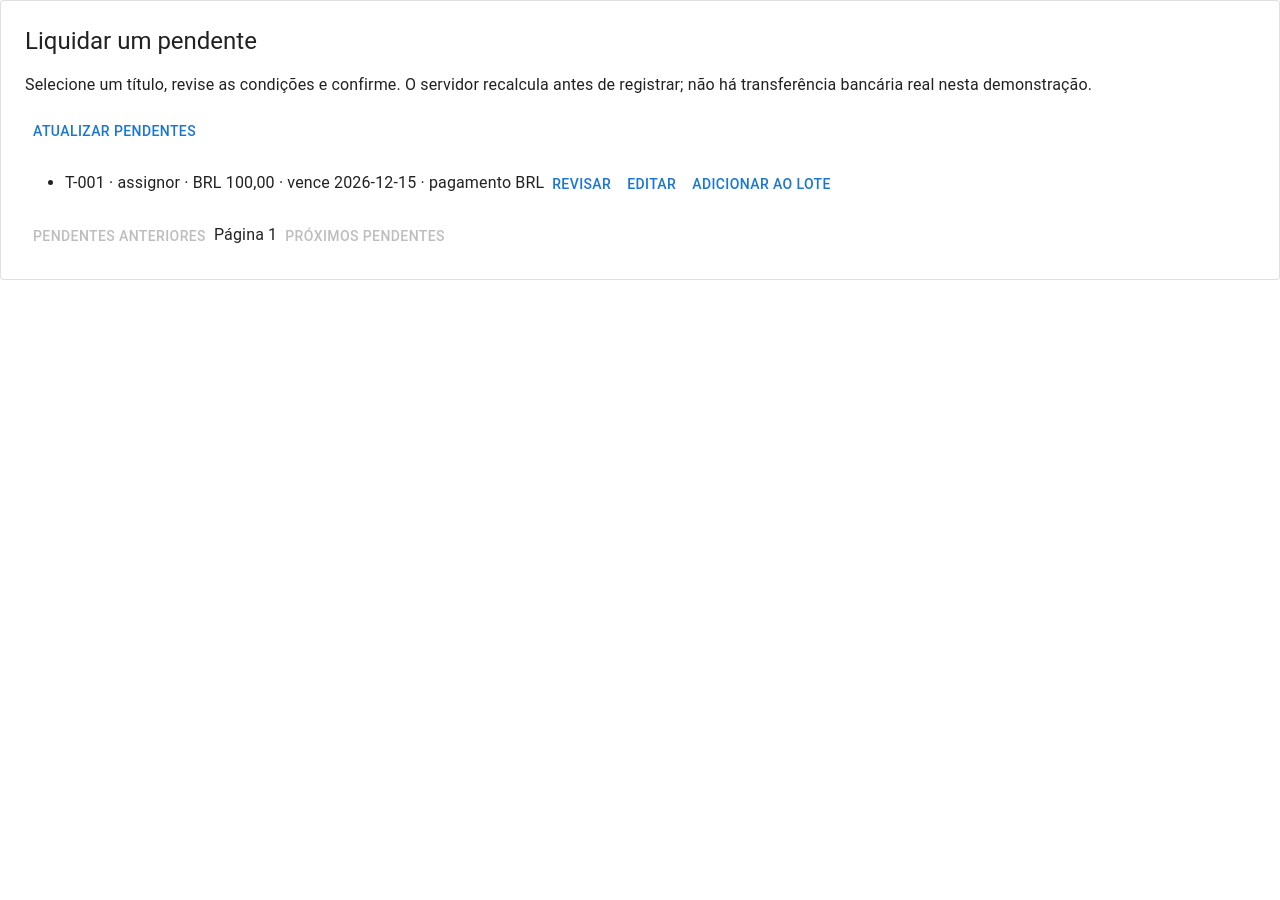
it: changed conditions require a second unchecked confirmation and a new key
Click the button with aria-label "Revisar T-001" at coordinates (582, 184), box top-left (544, 166), bottom-right (619, 202)
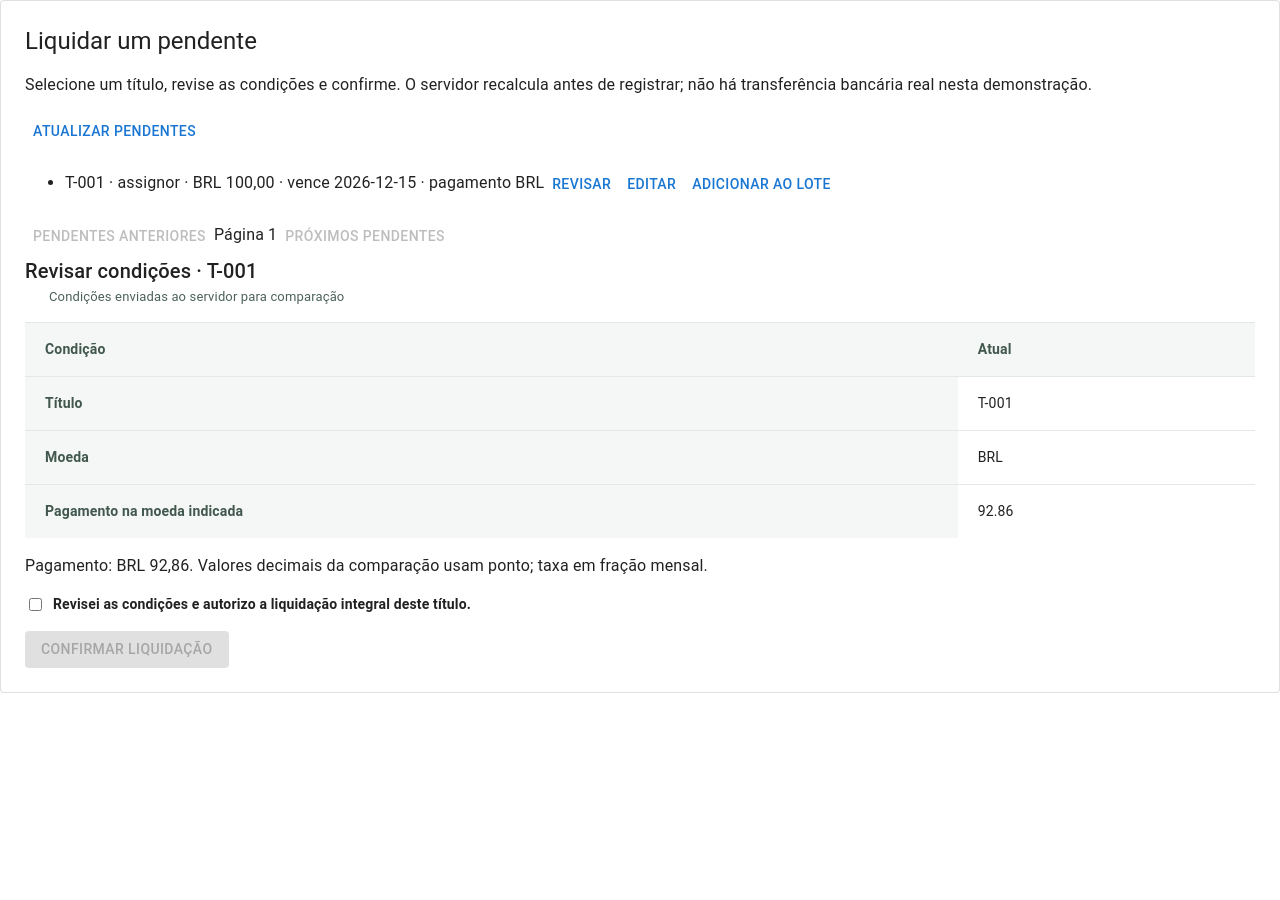
expect the checkbox is shown: met
Click the checkbox at coordinates (36, 604), box top-left (29, 598), bottom-right (42, 611)
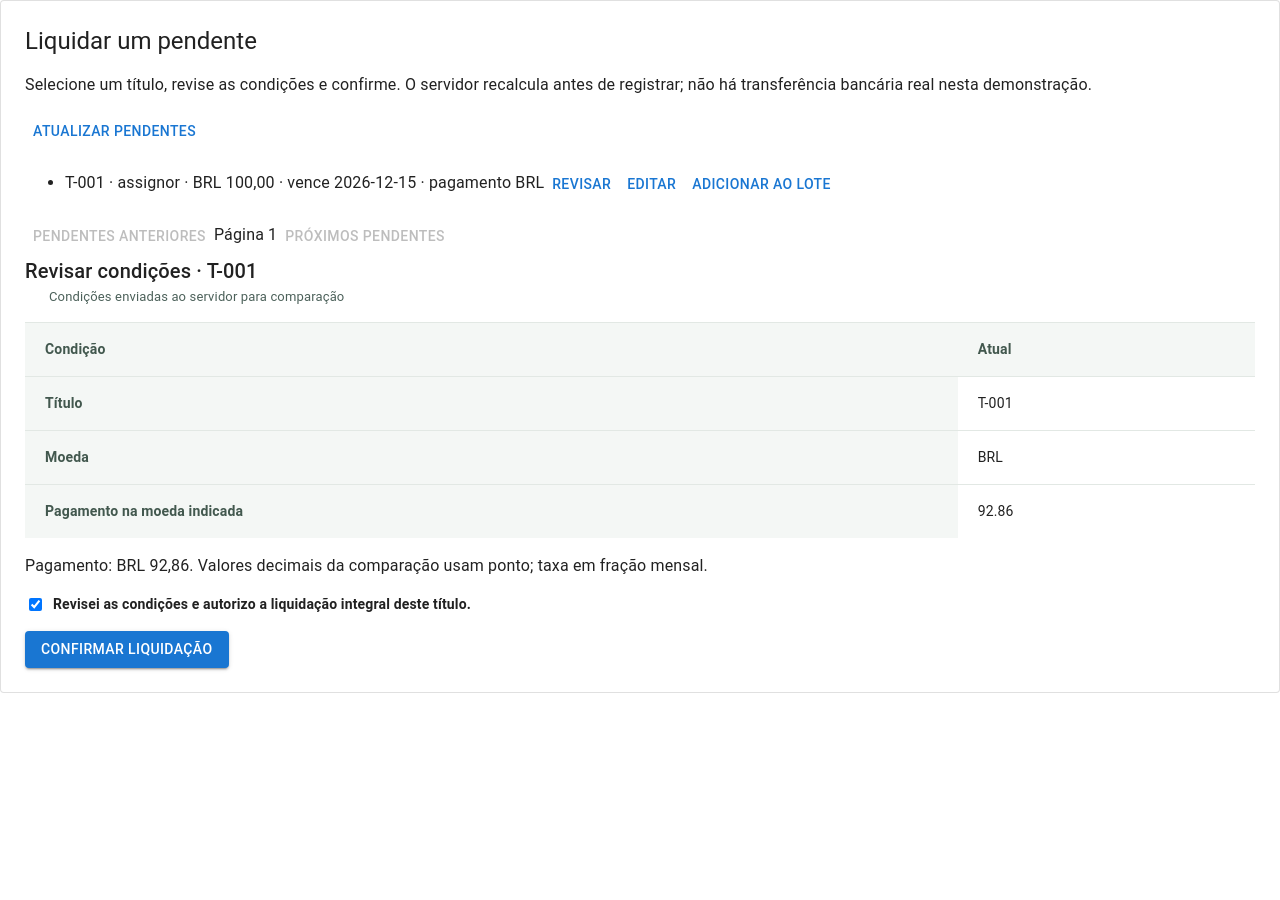
Click the button "Confirmar liquidação" at coordinates (127, 649), box top-left (25, 631), bottom-right (228, 668)
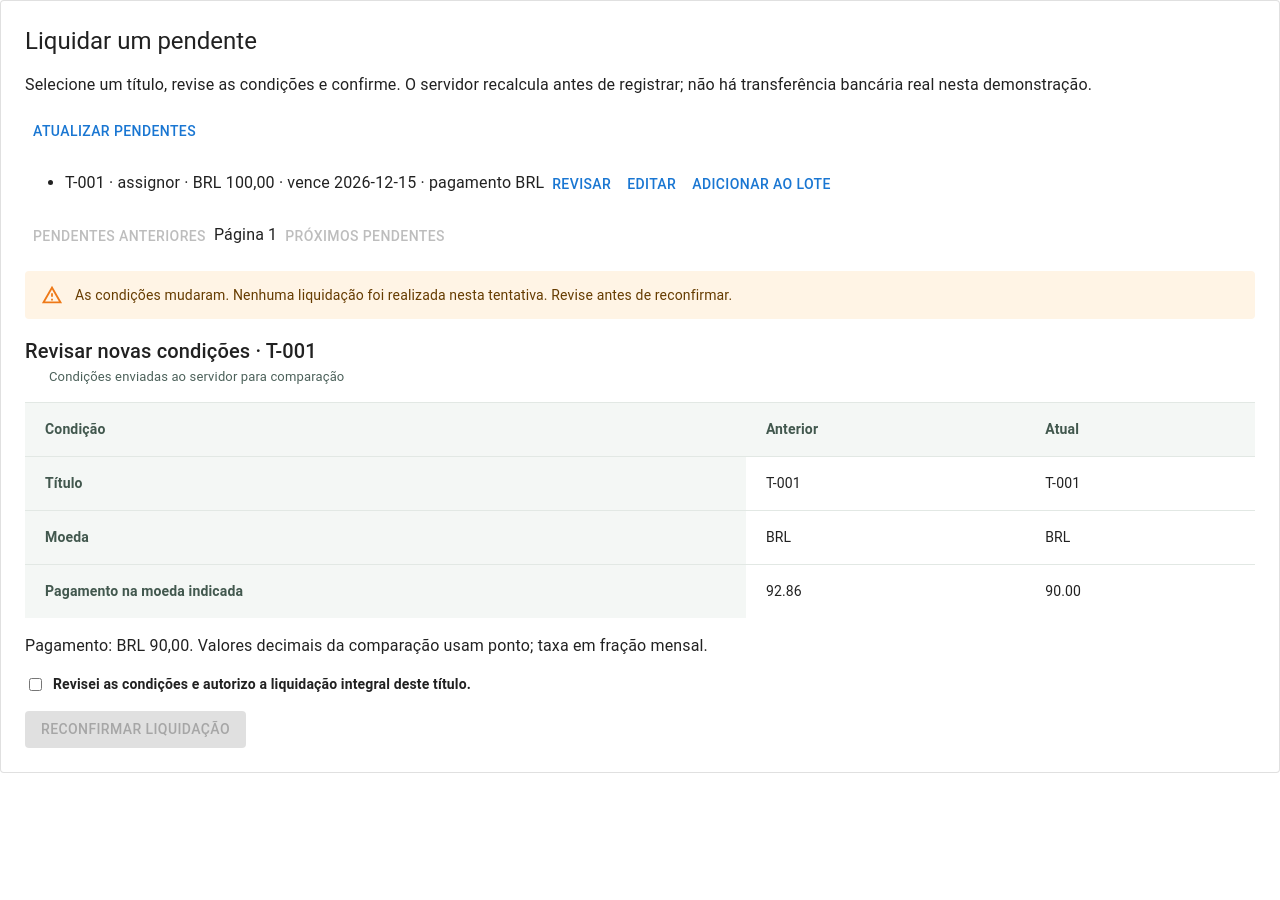
expect the button "Reconfirmar liquidação" is disabled: met, box top-left (25, 711), bottom-right (246, 748)
Click the checkbox at coordinates (36, 684), box top-left (29, 678), bottom-right (42, 691)
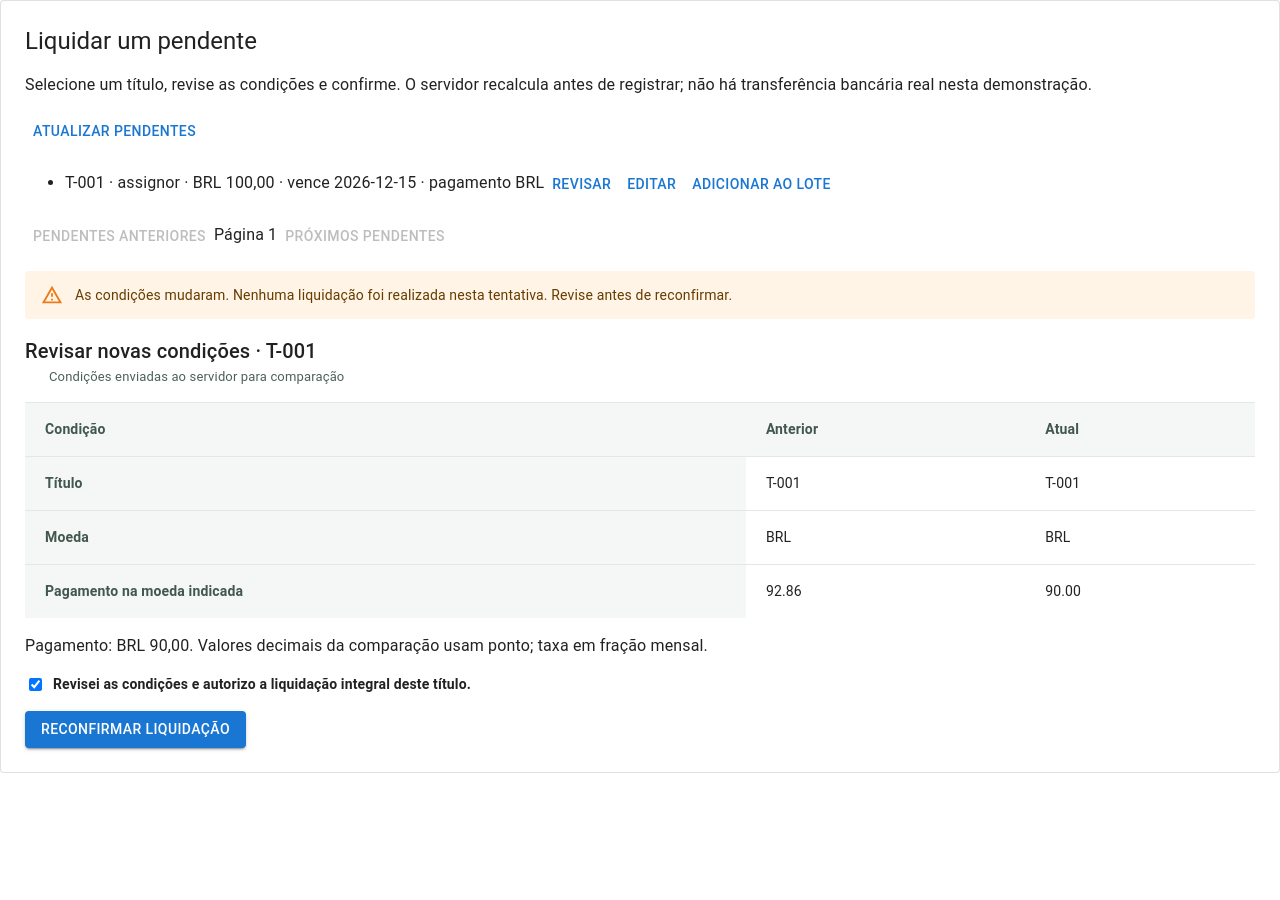
Click the button "Reconfirmar liquidação" at coordinates (136, 729), box top-left (25, 711), bottom-right (246, 748)
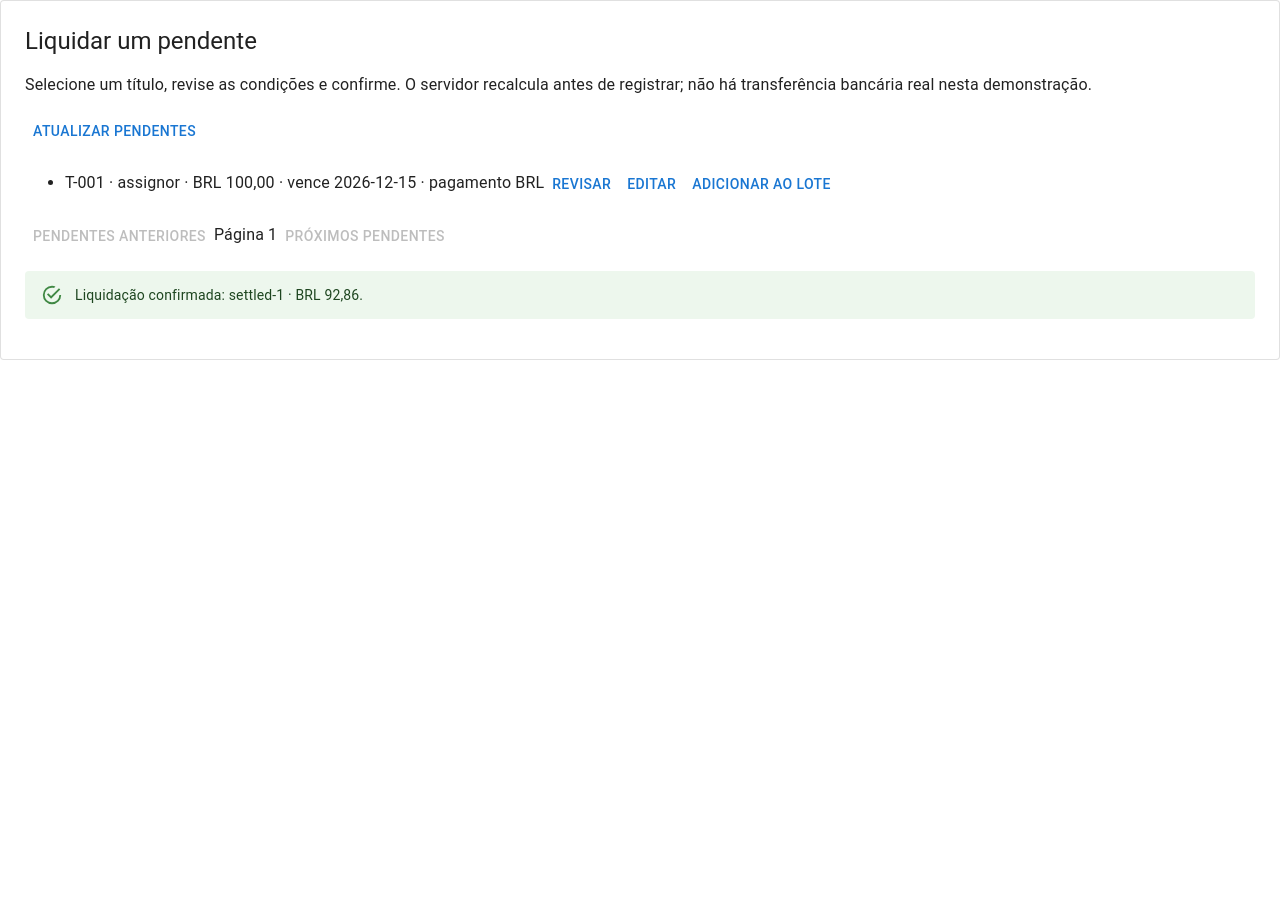
expect the text "Liquidação confirmada: settled-1 · BRL 92,86." is shown: met, box top-left (75, 286), bottom-right (363, 302)
